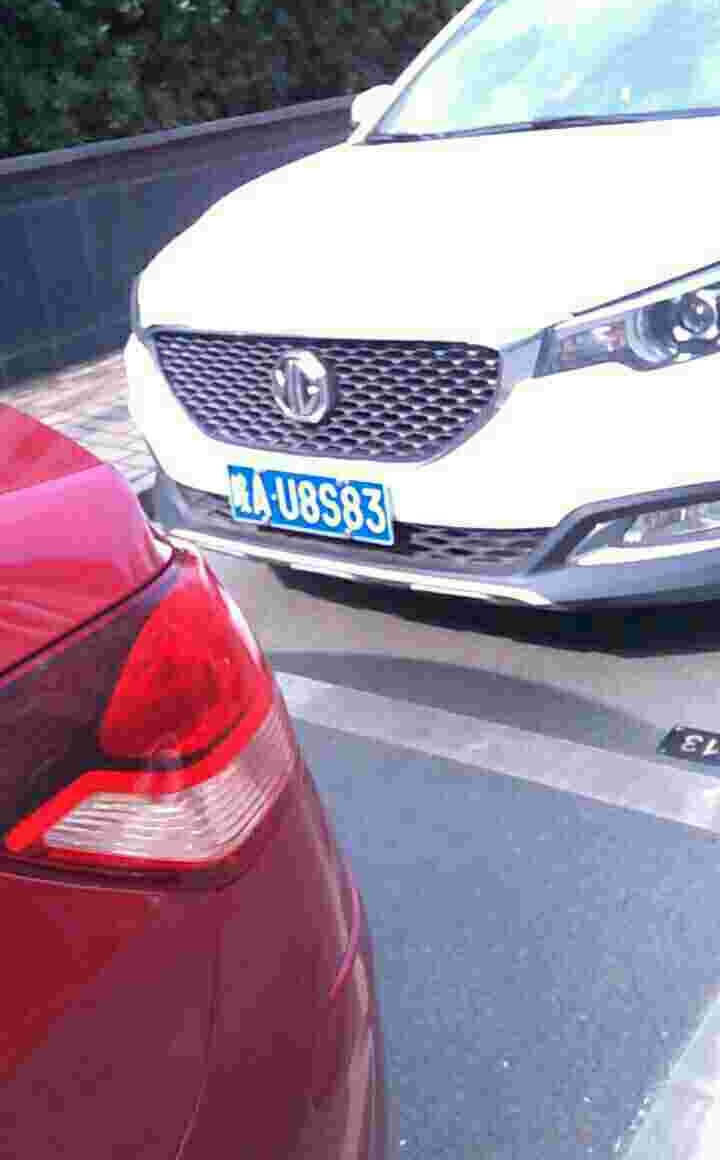license_plate: (219, 467, 389, 543)
